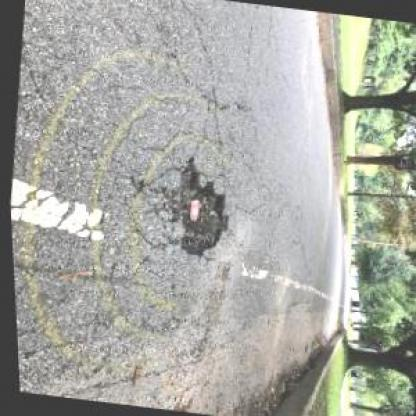pothole: (160, 155, 237, 265)
